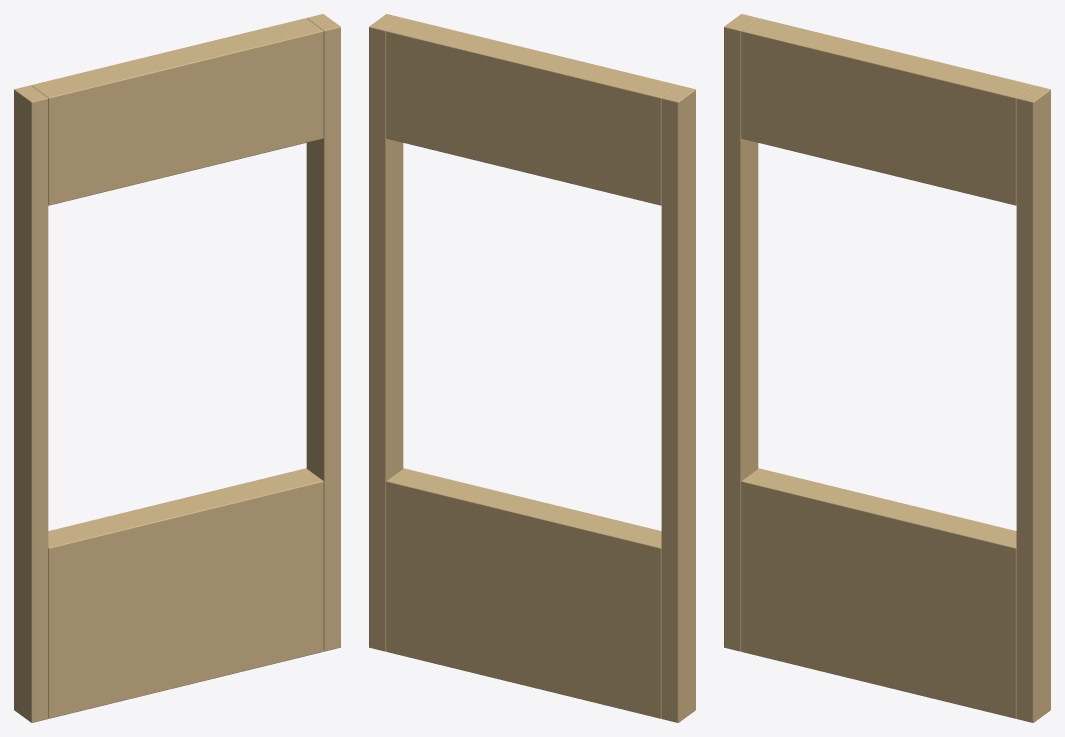
The model's file is wall_window_bay.glb.
The picture shows the model from 3 angles, left to right: view 1: azimuth 30°, elevation 25°; view 2: azimuth 150°, elevation 25°; view 3: azimuth 330°, elevation 25°; orthographic projection.
Visible parts, largest first — view 1: KAClass_WindowBay_Sill_Wall, KAClass_WindowBay_Header_Wall, KAClass_WindowBay_Jamb, KAClass_WindowBay_Jamb.001; view 2: KAClass_WindowBay_Sill_Wall, KAClass_WindowBay_Header_Wall, KAClass_WindowBay_Jamb, KAClass_WindowBay_Jamb.001; view 3: KAClass_WindowBay_Sill_Wall, KAClass_WindowBay_Header_Wall, KAClass_WindowBay_Jamb.001, KAClass_WindowBay_Jamb.
Boxes of the visible parts, box(x1,y1,x2,y2) form: KAClass_WindowBay_Sill_Wall: box(48, 468, 323, 718); KAClass_WindowBay_Header_Wall: box(31, 18, 323, 205); KAClass_WindowBay_Jamb: box(14, 85, 48, 722); KAClass_WindowBay_Jamb.001: box(306, 14, 340, 651); KAClass_WindowBay_Sill_Wall: box(386, 468, 661, 718); KAClass_WindowBay_Header_Wall: box(386, 18, 678, 205); KAClass_WindowBay_Jamb: box(661, 85, 695, 722); KAClass_WindowBay_Jamb.001: box(369, 14, 403, 651); KAClass_WindowBay_Sill_Wall: box(741, 468, 1016, 718); KAClass_WindowBay_Header_Wall: box(741, 18, 1033, 205); KAClass_WindowBay_Jamb.001: box(1016, 85, 1050, 722); KAClass_WindowBay_Jamb: box(724, 14, 758, 651).
Size of the model in its own units: 1.8 by 3.45 by 0.18.
